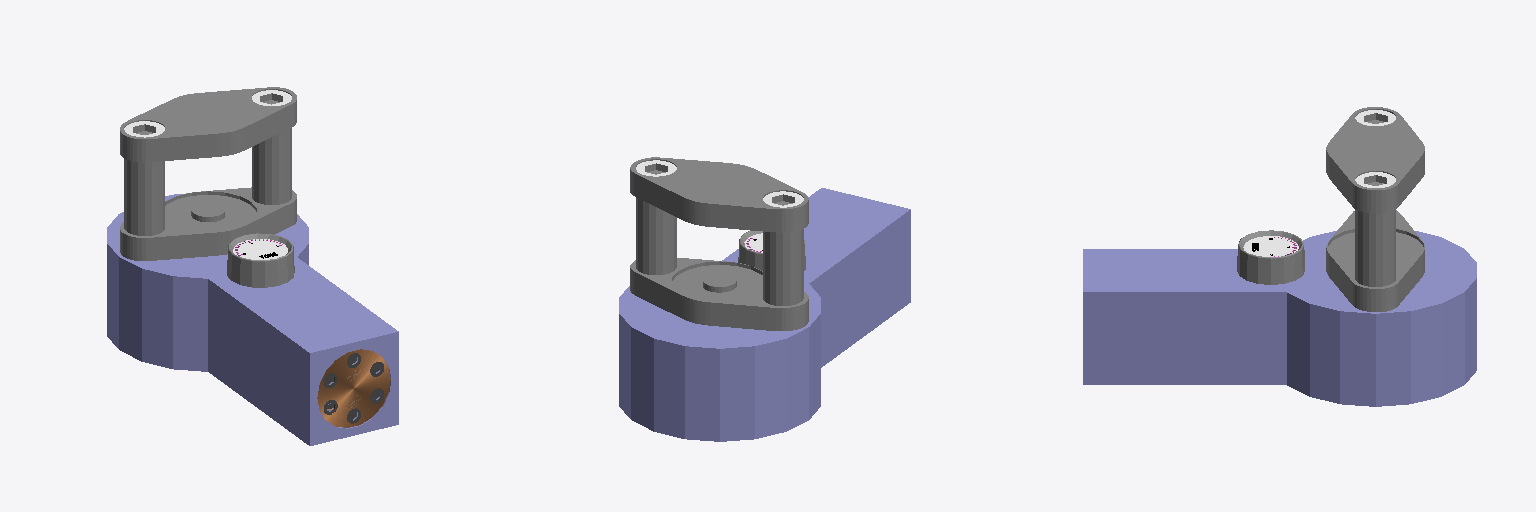
The picture shows the model from 3 angles: view 1: azimuth 30°, elevation 25°; view 2: azimuth 150°, elevation 25°; view 3: azimuth 270°, elevation 25°; orthographic projection.
Visible parts, largest first — view 1: press_body_01, press_body, press_body_02, press_body_11, press_body_37; view 2: press_body_01, press_body, press_body_11; view 3: press_body_01, press_body, press_body_11, press_body_37.
Part boxes in pixels (bbox=[...]): press_body_01: bbox=[107, 194, 398, 445]; press_body: bbox=[120, 87, 296, 260]; press_body_02: bbox=[317, 349, 390, 427]; press_body_11: bbox=[227, 233, 294, 287]; press_body_37: bbox=[233, 239, 287, 259]; press_body_01: bbox=[619, 188, 910, 441]; press_body: bbox=[630, 157, 808, 330]; press_body_11: bbox=[738, 230, 805, 270]; press_body_01: bbox=[1083, 230, 1476, 406]; press_body: bbox=[1326, 107, 1424, 311]; press_body_11: bbox=[1237, 230, 1304, 284]; press_body_37: bbox=[1243, 236, 1298, 256].
Bounding box in the file's own units: 66.14 × 76.38 × 127.
8 materials, 1 textured.